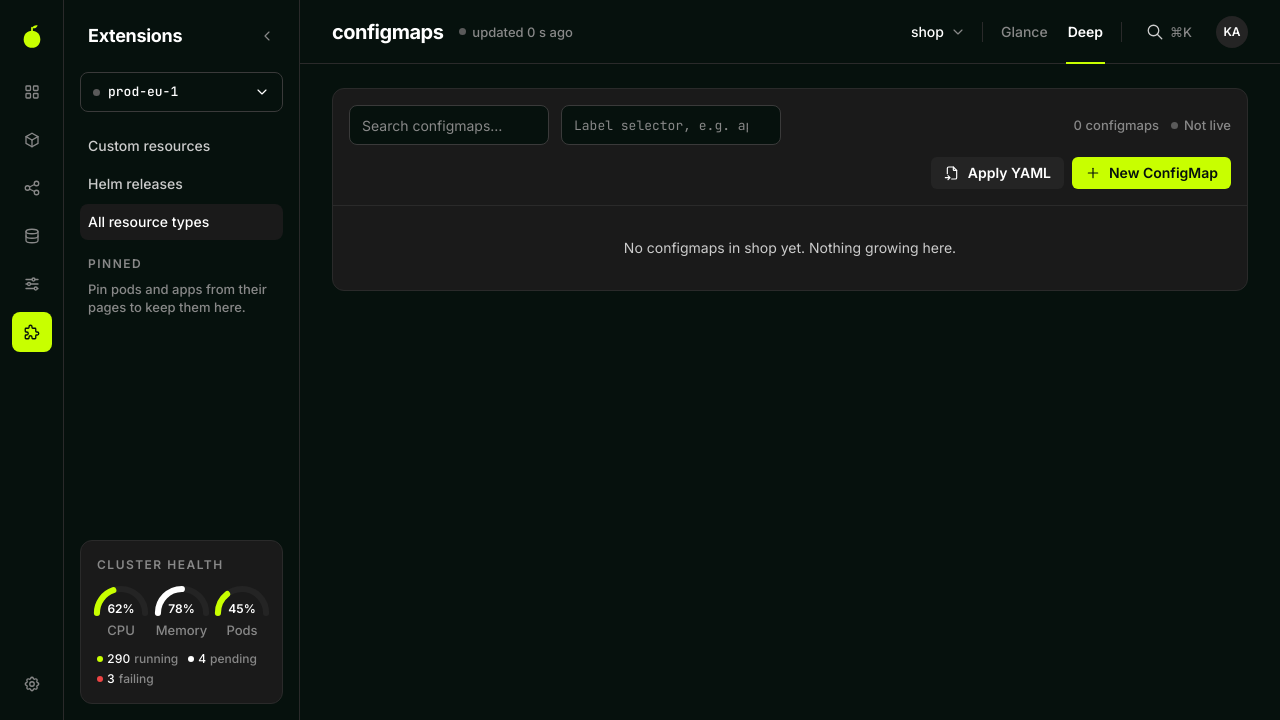
it: New › shows why the cluster refused, and keeps Create off
Click the button "New ConfigMap" at point(1152, 173), box left=1072, top=157, right=1231, bottom=189
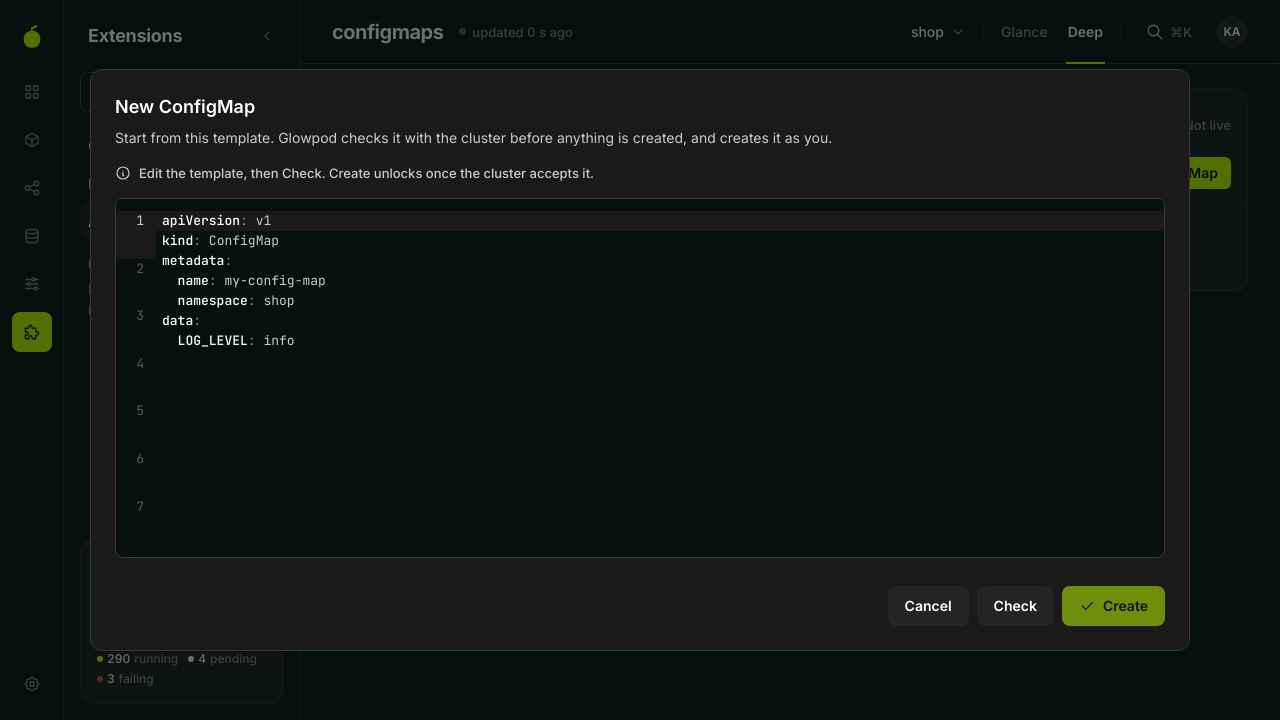
Click the button "Check" at point(1015, 606), box left=977, top=586, right=1054, bottom=626
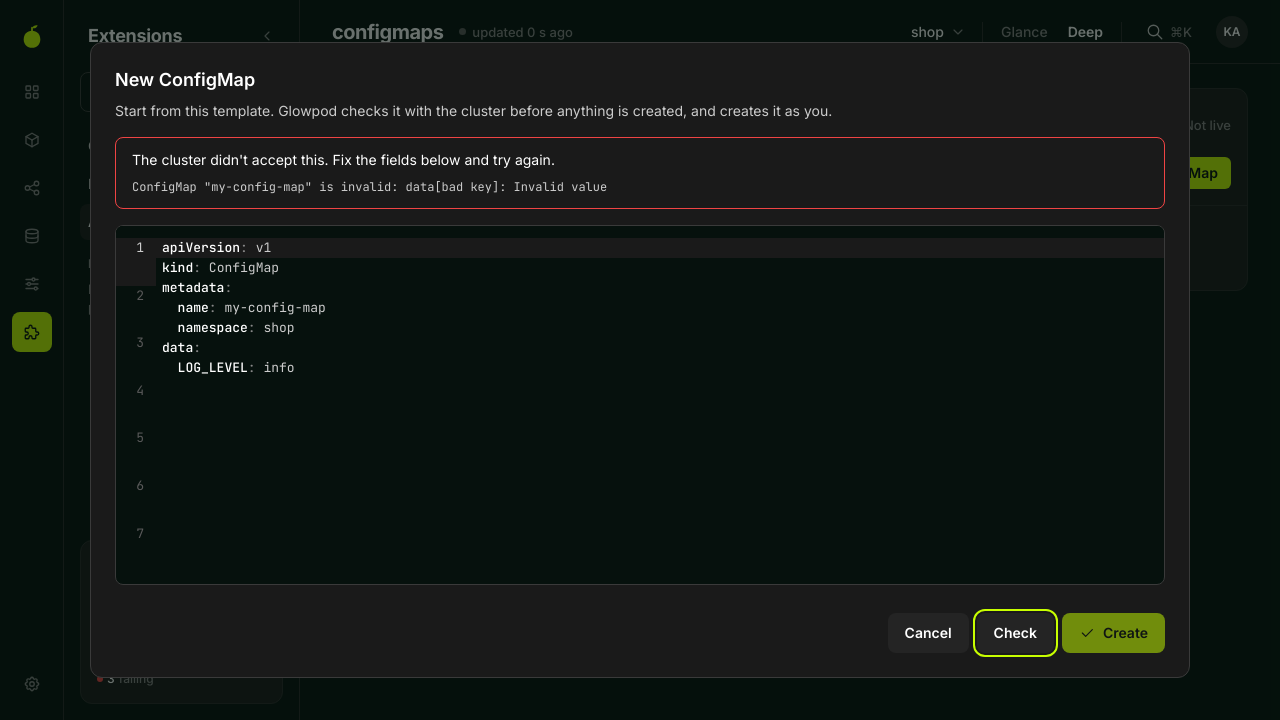
Expected: the button "Create" is disabled, left=1062, top=613, right=1165, bottom=653
Expected: the message shows "Fix the fields below", left=132, top=151, right=555, bottom=168
Expected: the message shows "data[bad key]: Invalid value", left=132, top=179, right=607, bottom=195
